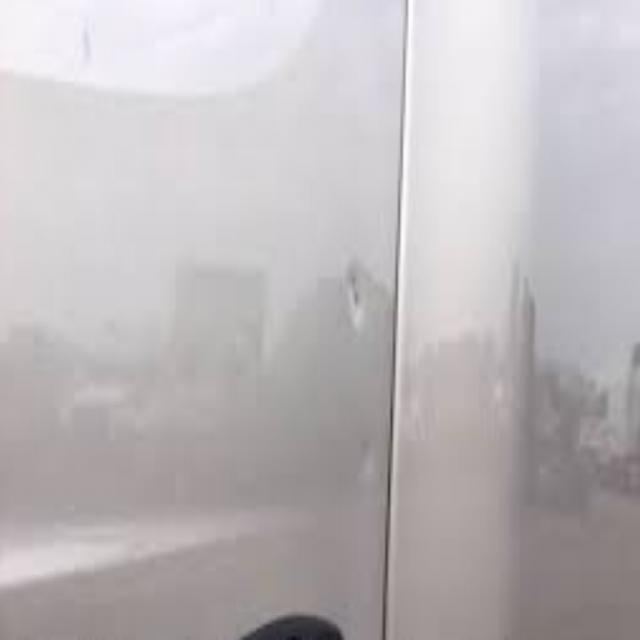dents: (348, 412, 400, 502), (341, 235, 380, 348)
